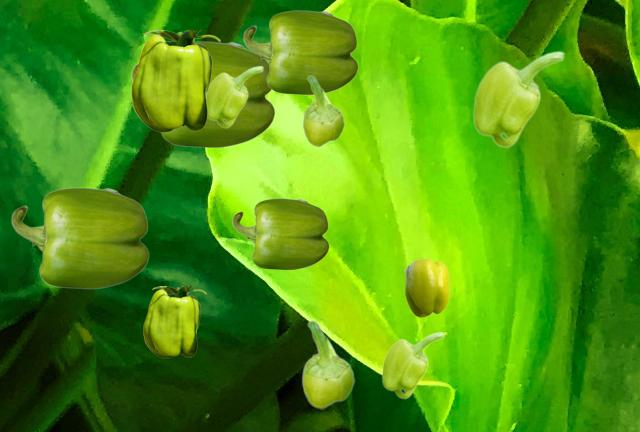bell_pepper: (131, 41, 274, 147), (11, 187, 148, 288), (243, 10, 357, 94), (472, 50, 564, 147), (131, 30, 219, 131), (232, 198, 328, 269), (301, 320, 354, 408), (143, 286, 205, 357), (381, 331, 444, 398), (207, 65, 263, 127), (302, 75, 344, 146), (404, 258, 448, 316)
